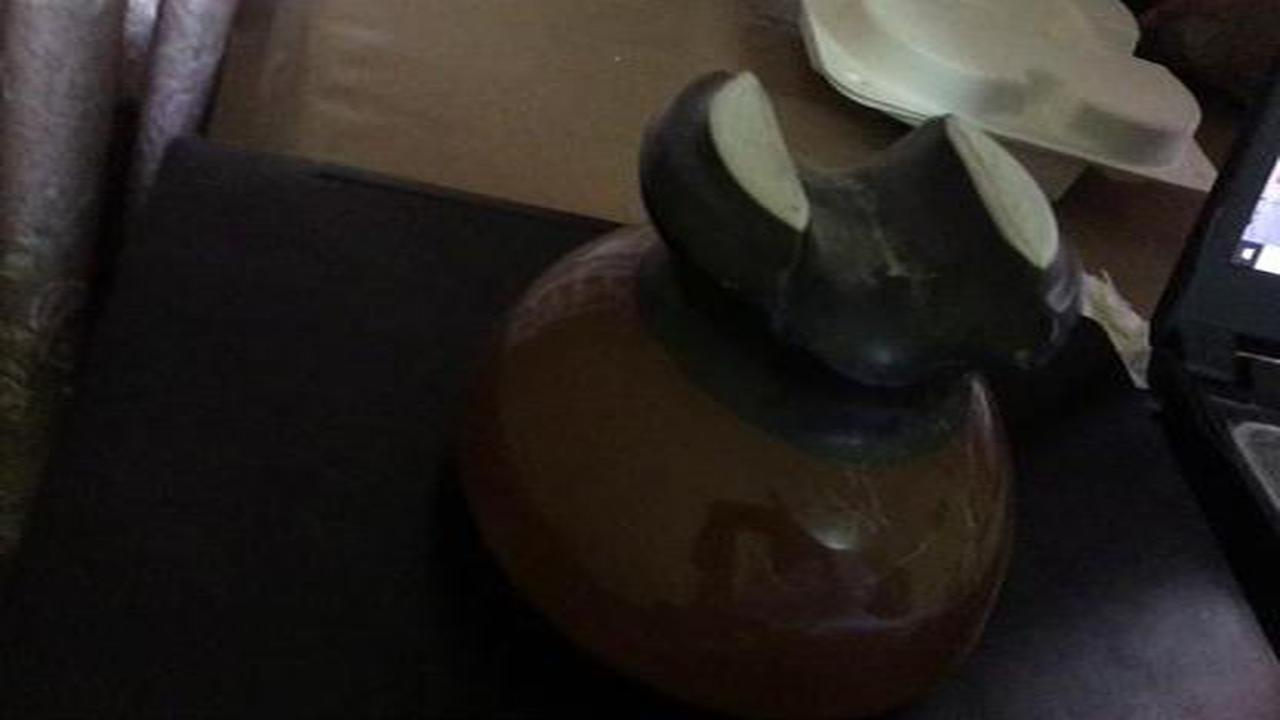insulator_pin: (444, 46, 1105, 691)
